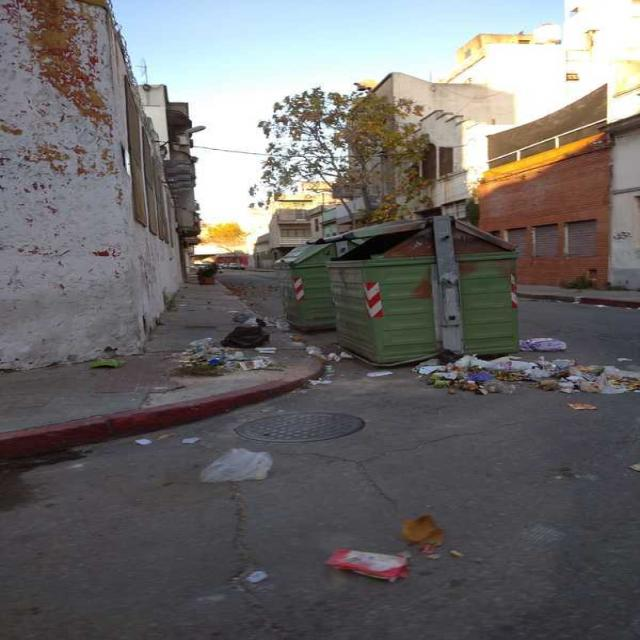garbage: (402, 346, 636, 407), (326, 504, 451, 587), (188, 439, 280, 485), (166, 334, 254, 382), (278, 330, 348, 390), (214, 310, 283, 348), (513, 328, 582, 359), (79, 347, 119, 373)
